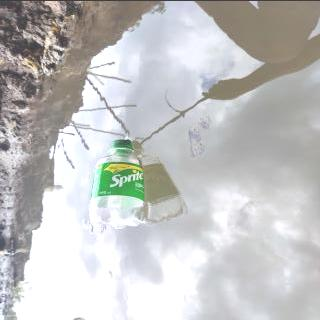bottle: (84, 136, 148, 230)
